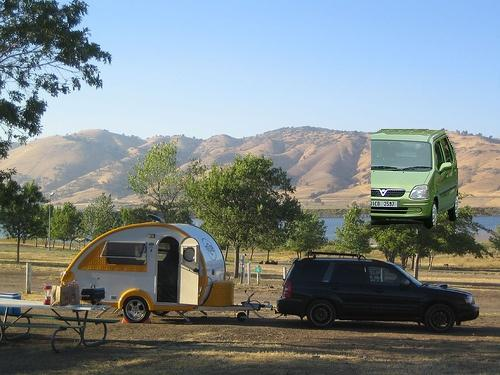tampered: (372, 130, 458, 229)
